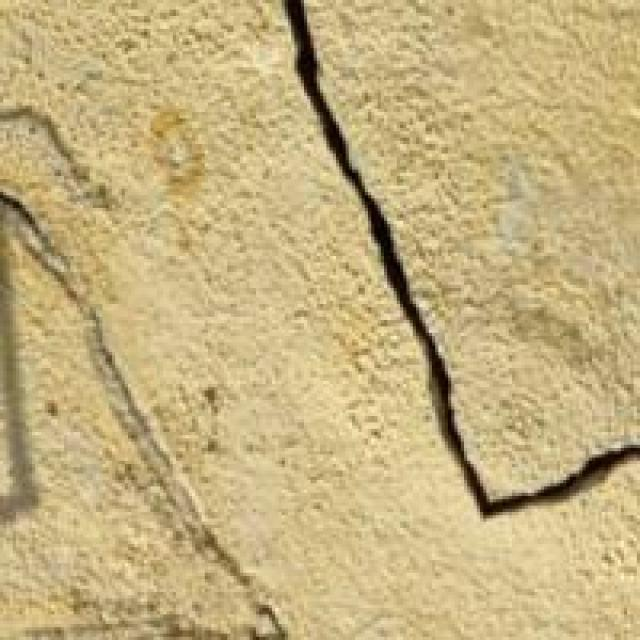crack: (264, 0, 640, 568)
